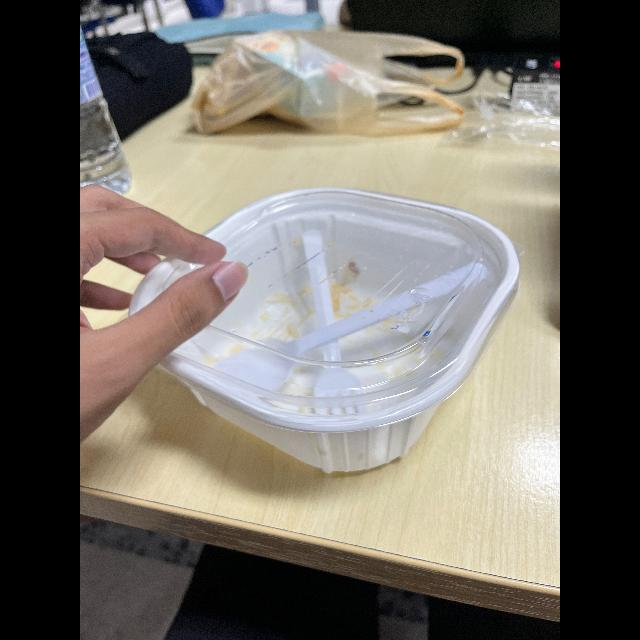plastic_box: (111, 180, 536, 470)
